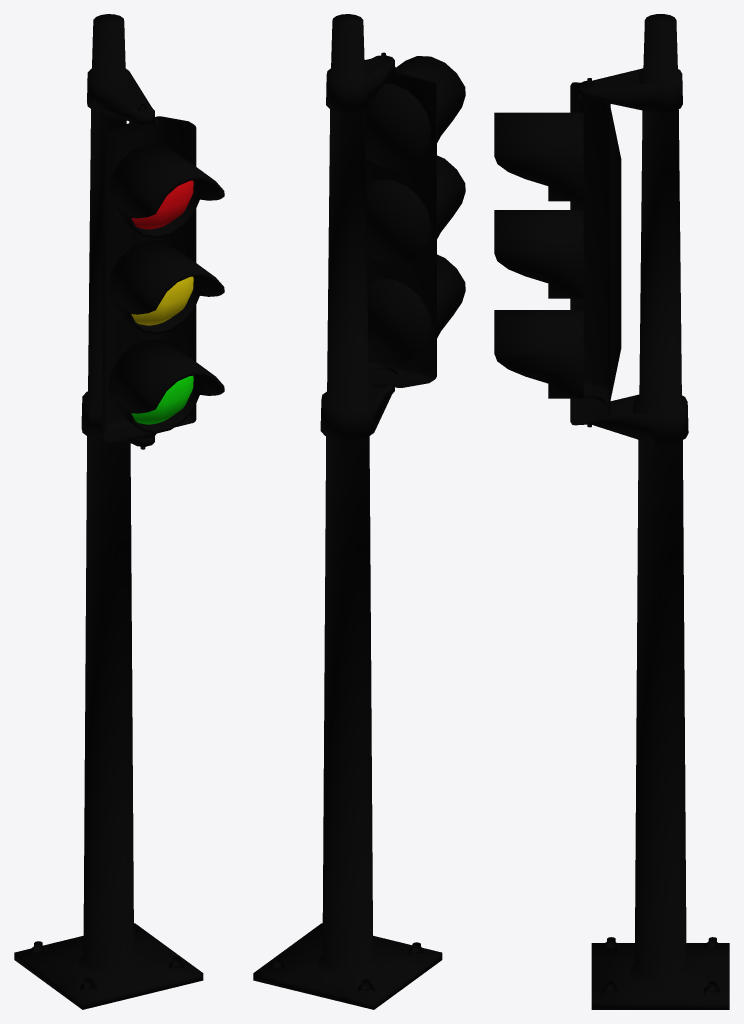
File: Traffic signal.dae
3 views of the same model, side by side, from view 1: azimuth 30°, elevation 25°; view 2: azimuth 150°, elevation 25°; view 3: azimuth 270°, elevation 25° (orthographic).
Parts seen in each view (by area): view 1: Cylinder.001; view 2: Cylinder.001; view 3: Cylinder.001.
Part boxes in pixels (x1,y1,x2,y2): Cylinder.001: (14,14,224,1009); Cylinder.001: (253,14,465,1009); Cylinder.001: (494,14,729,1009).
Size of the model in its own units: 0.3771 by 0.6304 by 2.84.
